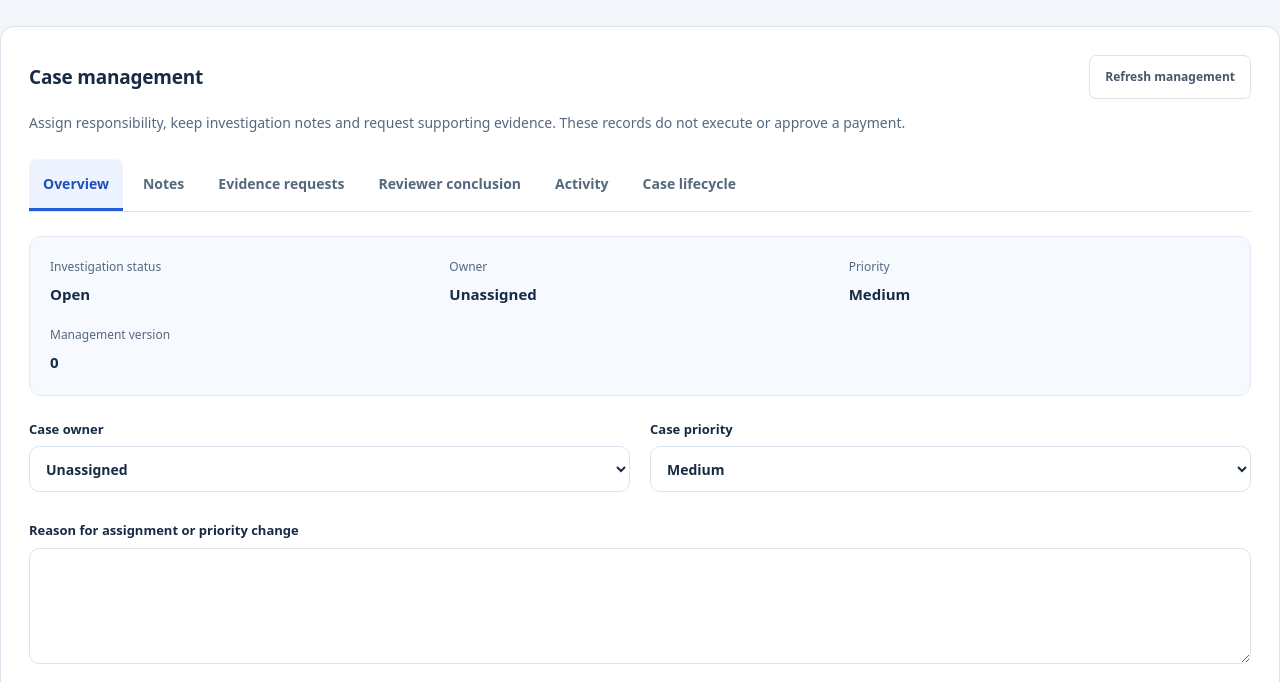
Test: payment case management › preserves the note and uses the exact same idempotency body/key after an uncertain save
expect the text "Unassigned" is shown: met, box [449,284,537,304]
Click the tab "Notes" at (164, 185), box [129,159,198,211]
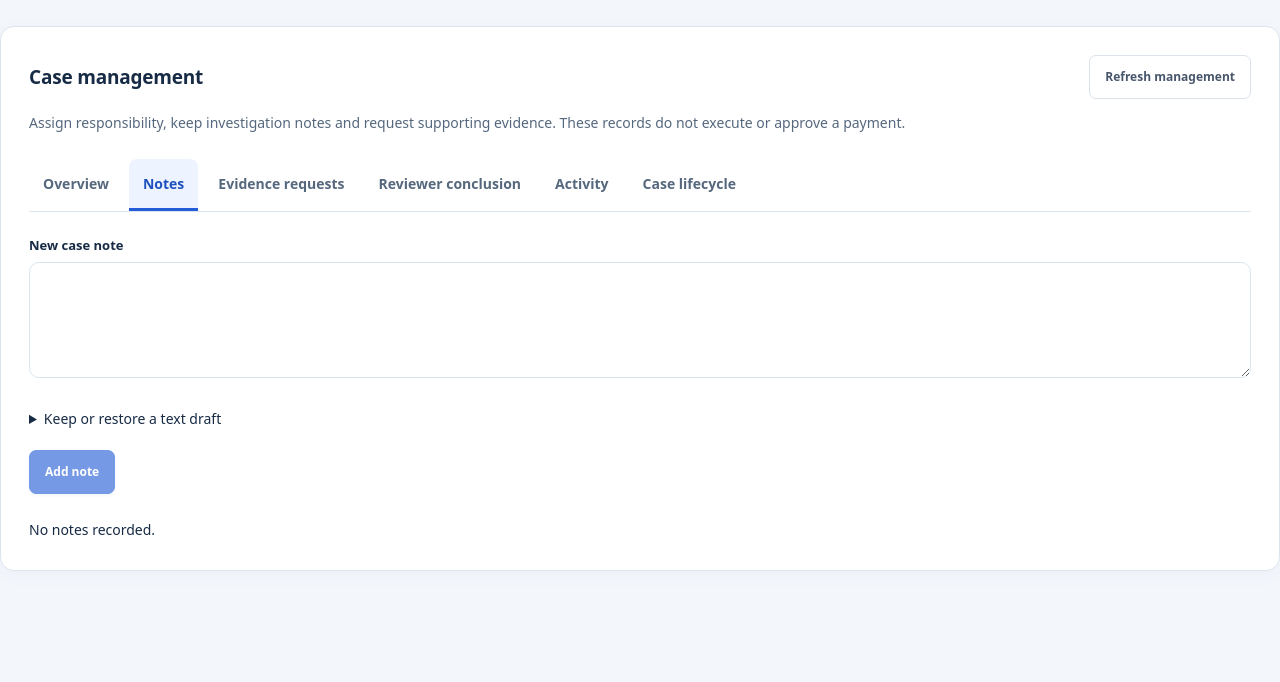
Type "Retain this exact note" into the text box labelled "New case note" at (640, 320), box [29,262,1251,378]
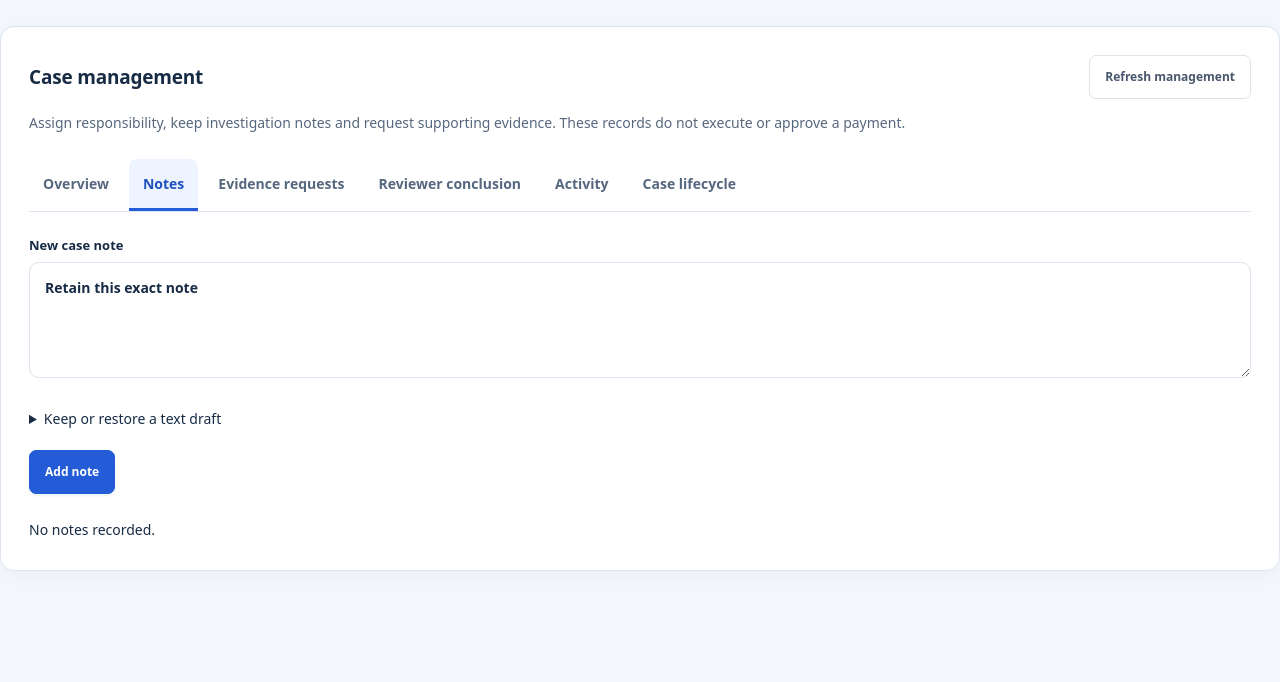
Click the button "Add note" at (72, 472), box [29,450,115,494]
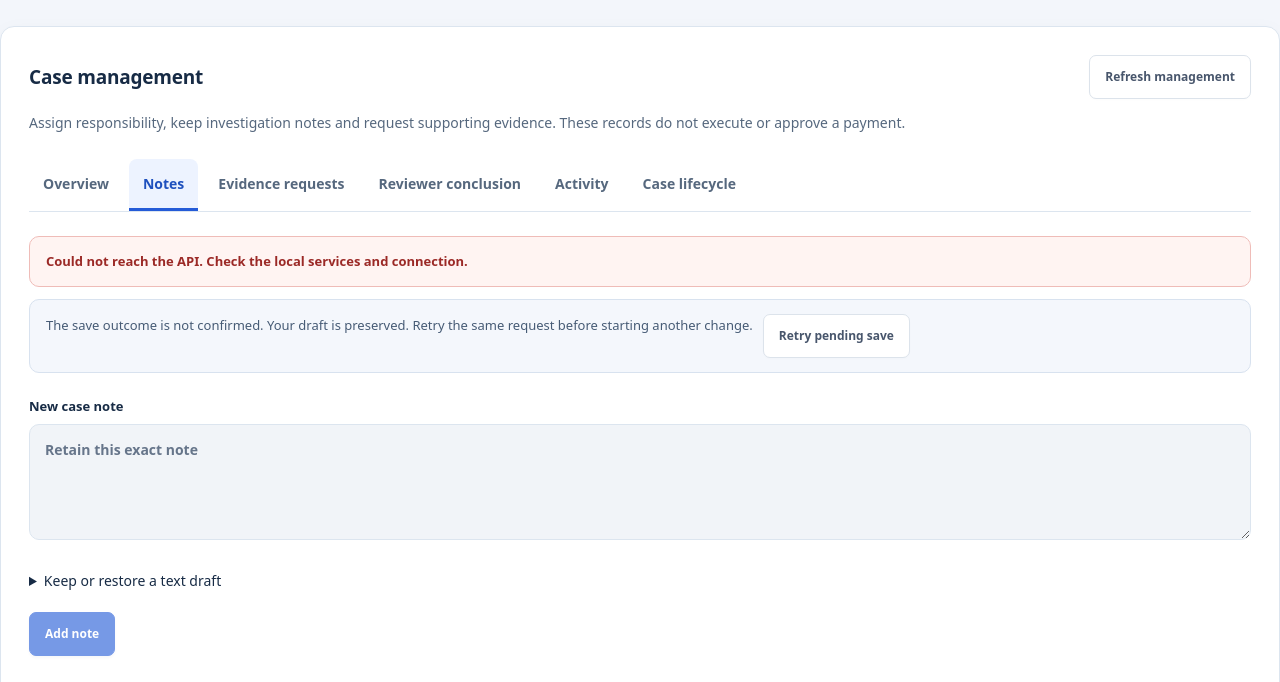
expect the button "Retry pending save" is shown: met
expect the text box labelled "New case note" is disabled: met, box [29,424,1251,540]
Click the button "Retry pending save" at (836, 336), box [763,314,910,358]
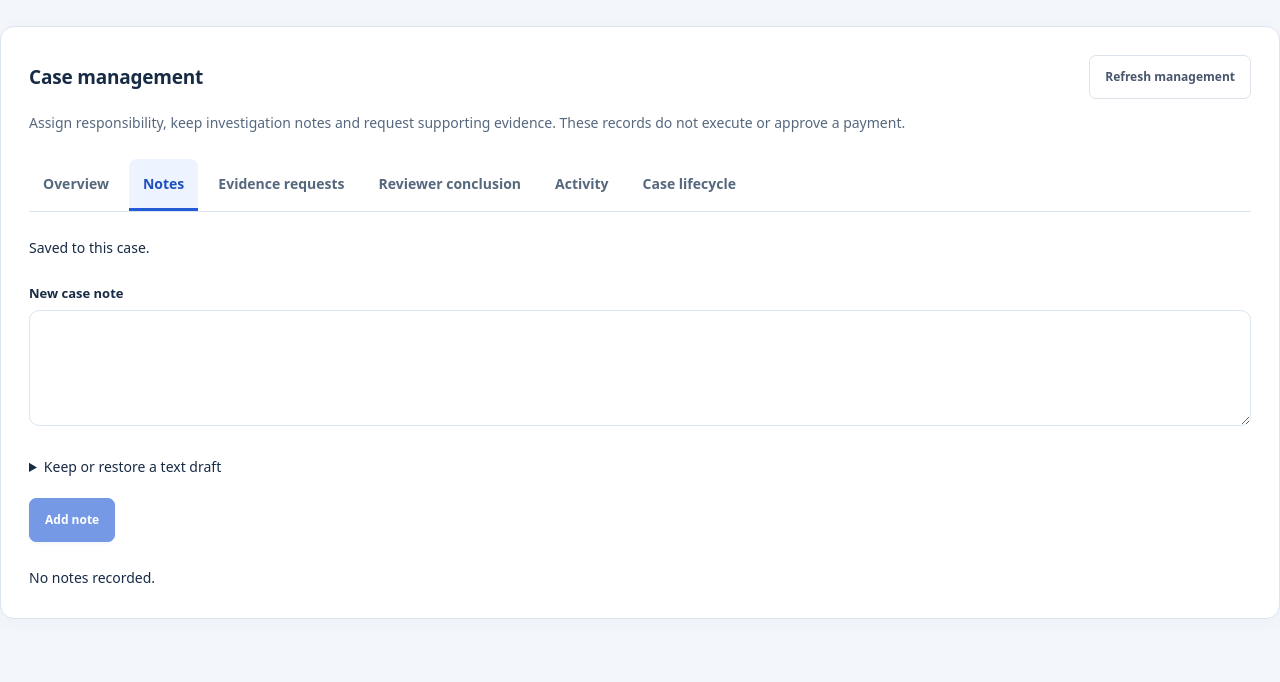
expect the text "Saved to this case." is shown: met, box [29,238,150,257]
